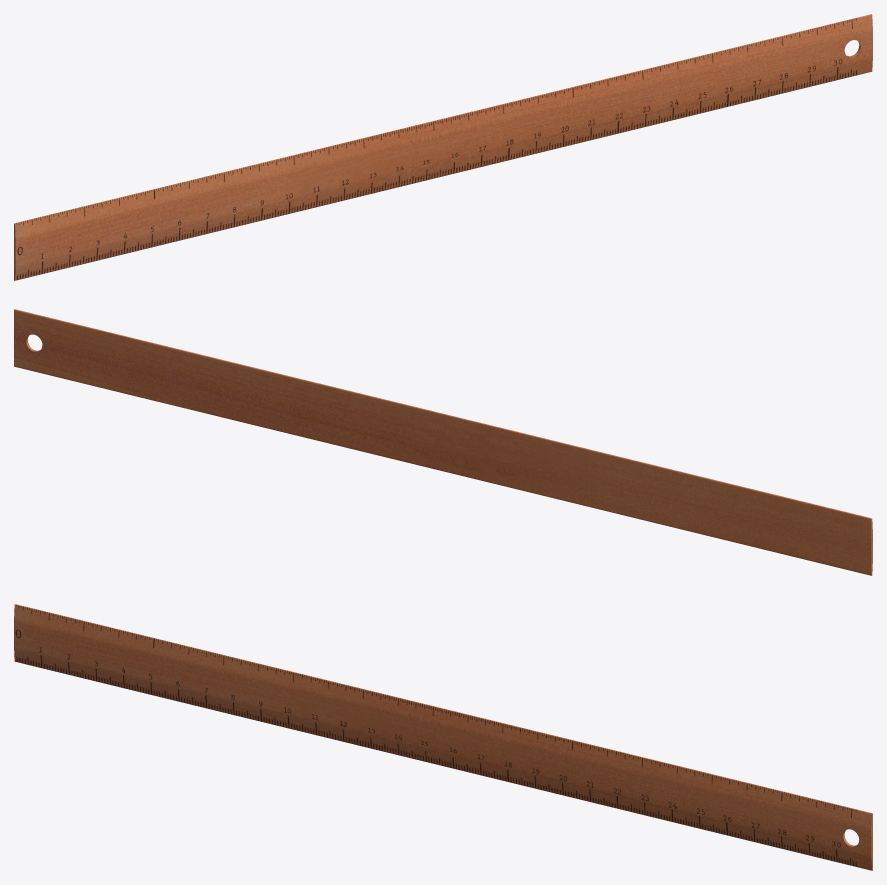
File: 10310_ruler_v1_iterations-2.obj
3 renders of one model, top to bottom at view 1: azimuth 30°, elevation 25°; view 2: azimuth 150°, elevation 25°; view 3: azimuth 330°, elevation 25°, orthographic.
Parts seen in each view (by area): view 1: 10310_ruler_V1; view 2: 10310_ruler_V1; view 3: 10310_ruler_V1.
Part boxes in pixels (left/top/right/bottom): 10310_ruler_V1: left=14, top=14, right=872, bottom=280; 10310_ruler_V1: left=14, top=309, right=872, bottom=575; 10310_ruler_V1: left=14, top=604, right=872, bottom=870.
Size of the model in its own units: 31.48 by 2.01 by 0.1008.
1 material, 1 textured.
